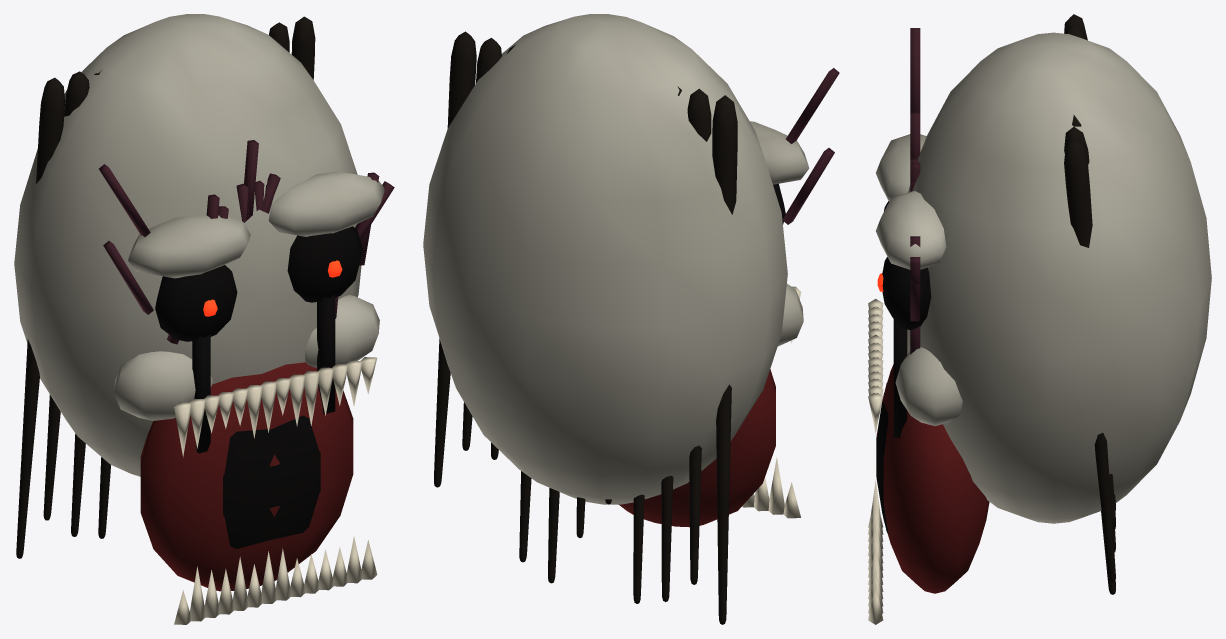
Rendered from scare.glb.
The picture shows the model from 3 angles, left to right: view 1: azimuth 30°, elevation 25°; view 2: azimuth 150°, elevation 25°; view 3: azimuth 270°, elevation 25°; orthographic projection. The views are drawn at different scales.
Parts seen in each view (by area): view 1: scare_head; view 2: scare_head; view 3: scare_head.
Part boxes in pixels (<box>): scare_head: <box>14,14,394,624</box>; scare_head: <box>423,14,839,624</box>; scare_head: <box>868,14,1211,624</box>.
Bounding box in the file's own units: 0.38 × 0.6005 × 0.3477.
